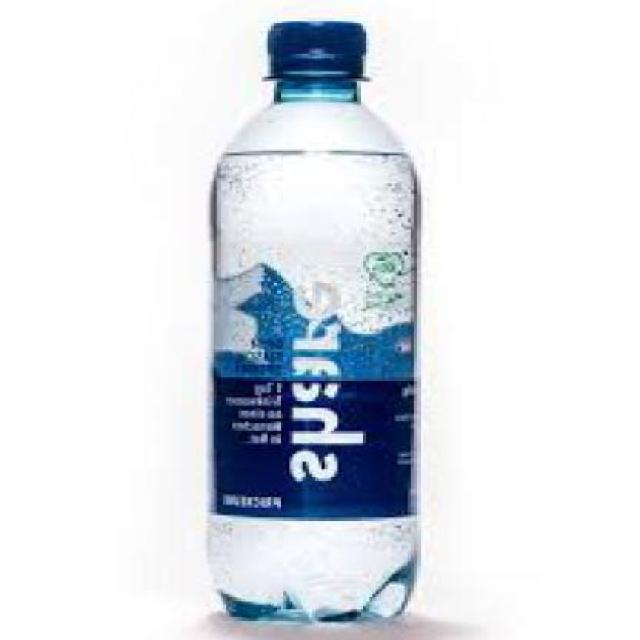PLASTIC: (220, 18, 423, 619), (268, 18, 369, 79)
